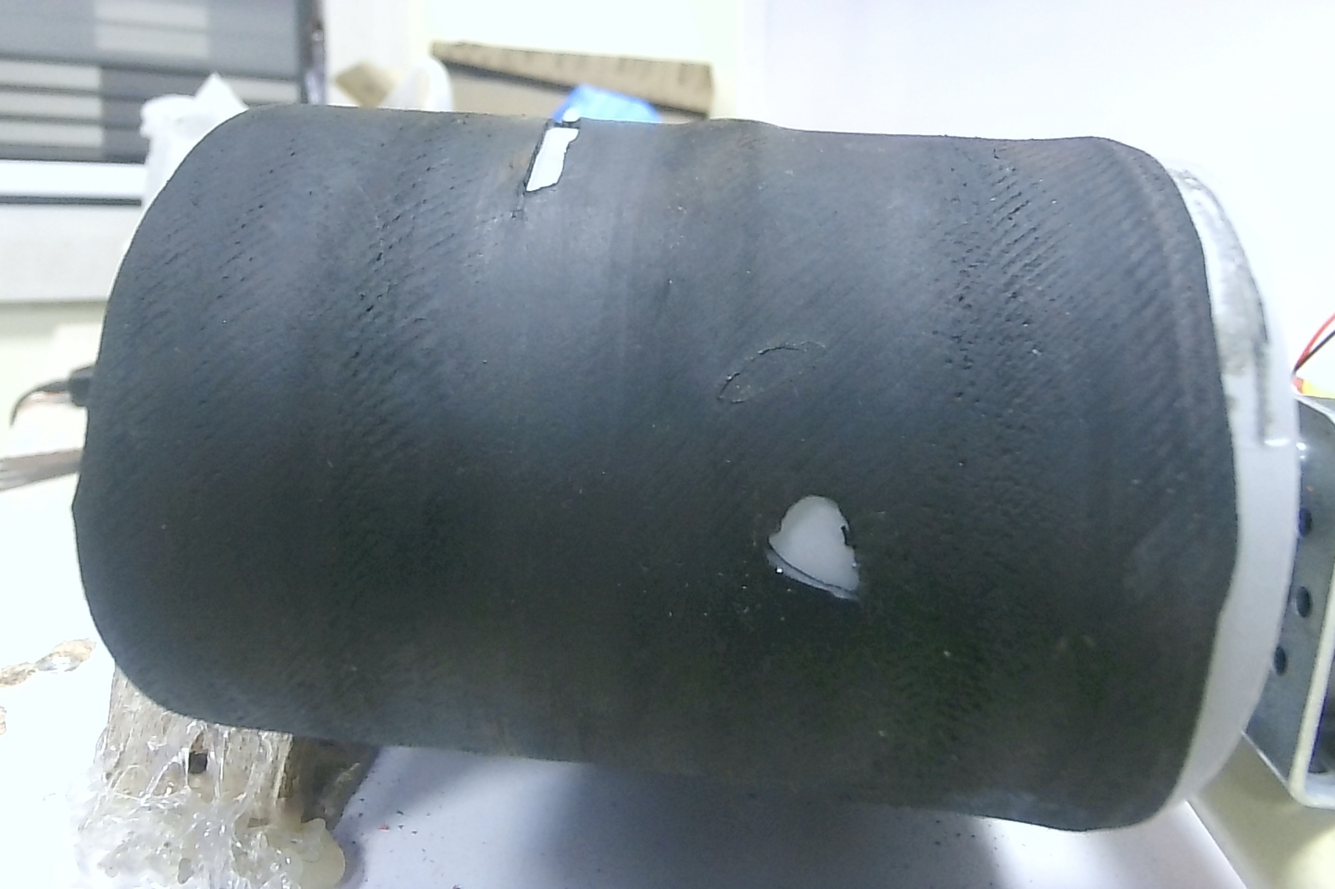hole: (755, 486, 869, 602), (521, 113, 579, 195)
